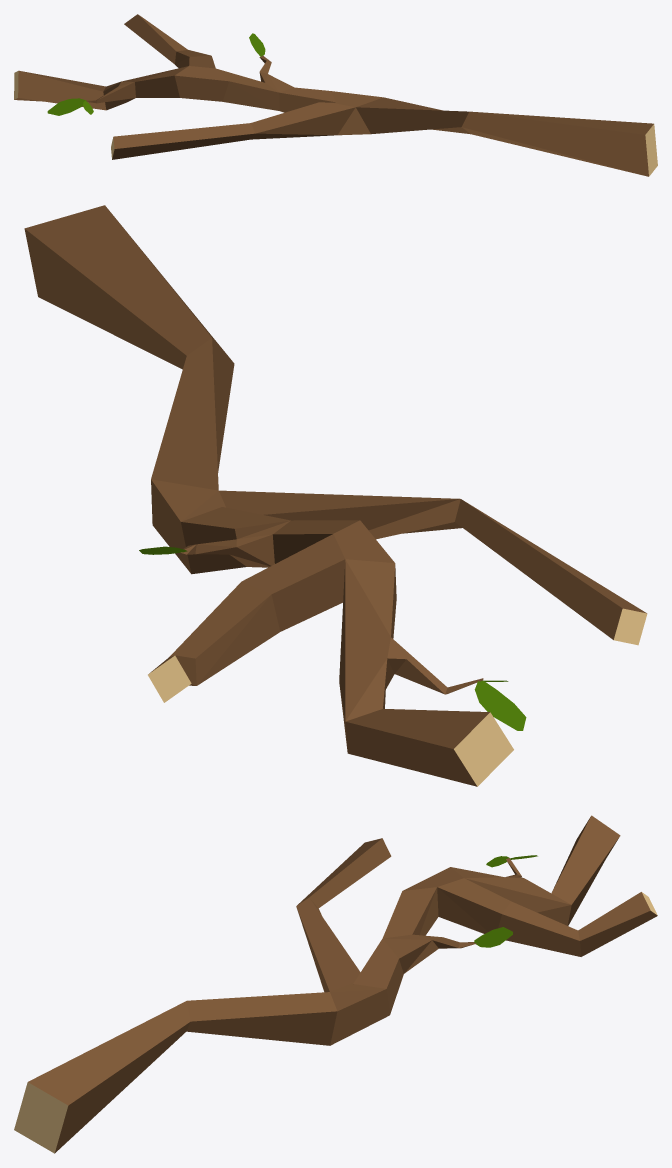
Rendered from Branch.fbx.
The picture shows the model from 3 angles, top to bottom: view 1: azimuth 30°, elevation 25°; view 2: azimuth 150°, elevation 25°; view 3: azimuth 270°, elevation 25°; orthographic projection. The views are drawn at different scales.
Visible parts, largest first — view 1: Branch.001, Leaf.003; view 2: Branch.001, Leaf.003; view 3: Branch.001, Leaf.005.
Boxes of the visible parts, box(x1,y1,x2,y2) form: Branch.001: box(14, 14, 657, 176); Leaf.003: box(47, 98, 86, 115); Branch.001: box(24, 205, 647, 786); Leaf.003: box(474, 681, 526, 730); Branch.001: box(14, 815, 657, 1153); Leaf.005: box(474, 927, 512, 947).
Bounding box in the file's own units: 101 × 13.46 × 98.61.
